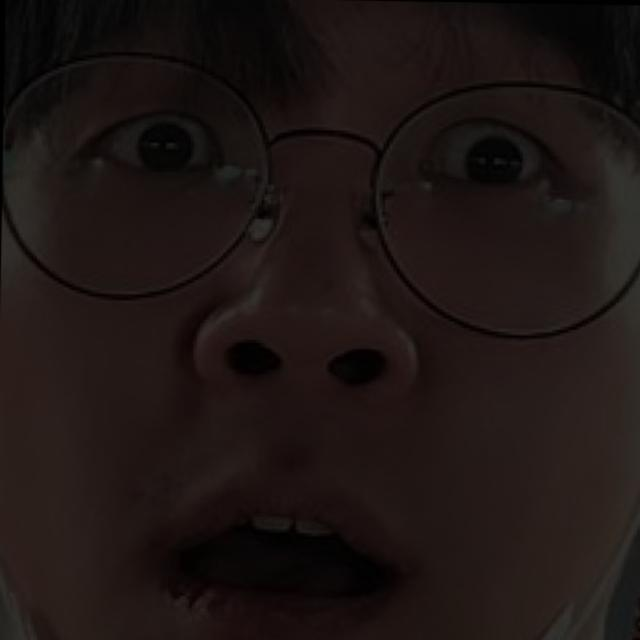Surprised: (33, 46, 606, 640)
